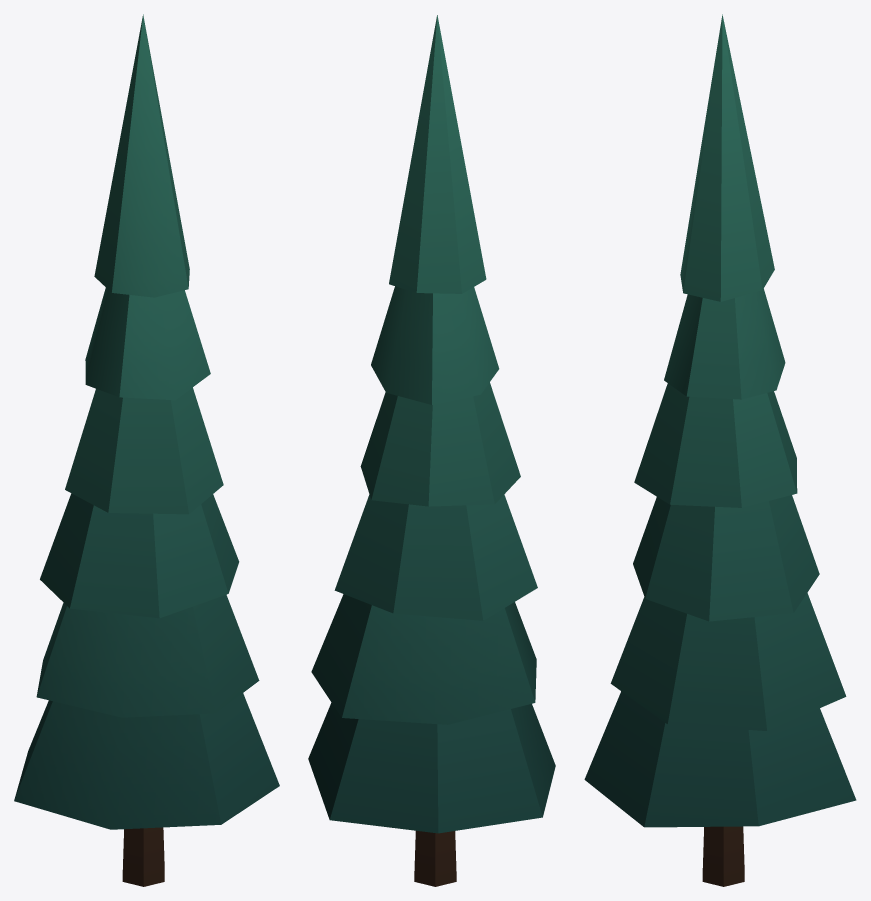
The model's file is Pine_B.fbx.
3 views of the same model, side by side, from view 1: azimuth 30°, elevation 25°; view 2: azimuth 150°, elevation 25°; view 3: azimuth 270°, elevation 25° (orthographic).
Visible parts, largest first — view 1: Pine_B_LOD0; view 2: Pine_B_LOD0; view 3: Pine_B_LOD0.
Boxes of the visible parts, box(x1,y1,x2,y2) form: Pine_B_LOD0: box(14, 14, 279, 886); Pine_B_LOD0: box(308, 15, 555, 886); Pine_B_LOD0: box(584, 14, 856, 886).
Size of what is drawn, in the model's own units: 2.66 by 9.6 by 2.75.
Materials: 1 (1 with a texture image).
